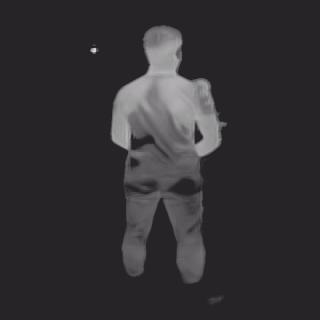Gun: (129, 134, 156, 170)
